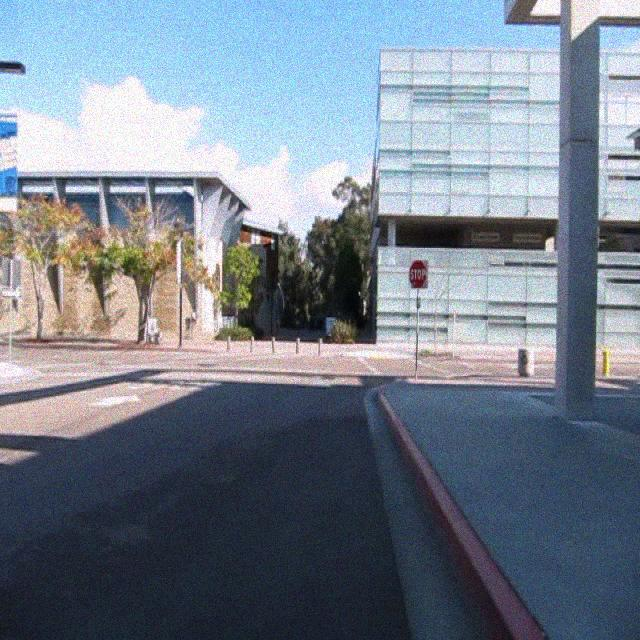stop: (408, 259, 427, 289)
